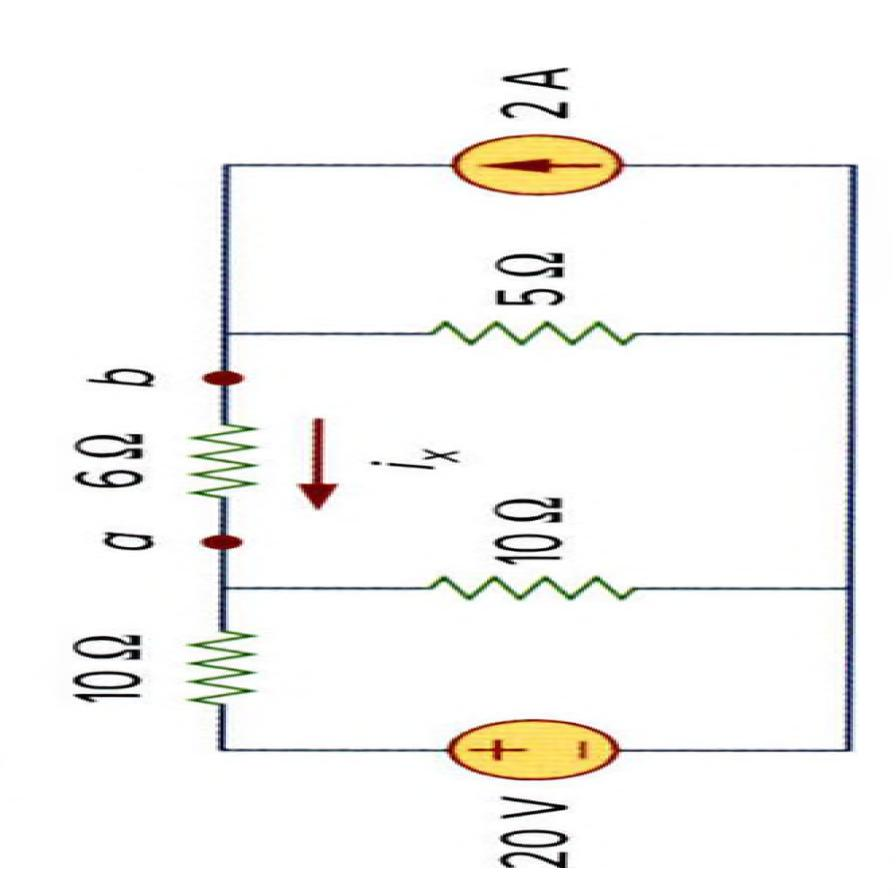I4: (424, 125, 634, 200)
V4: (437, 711, 623, 784)
